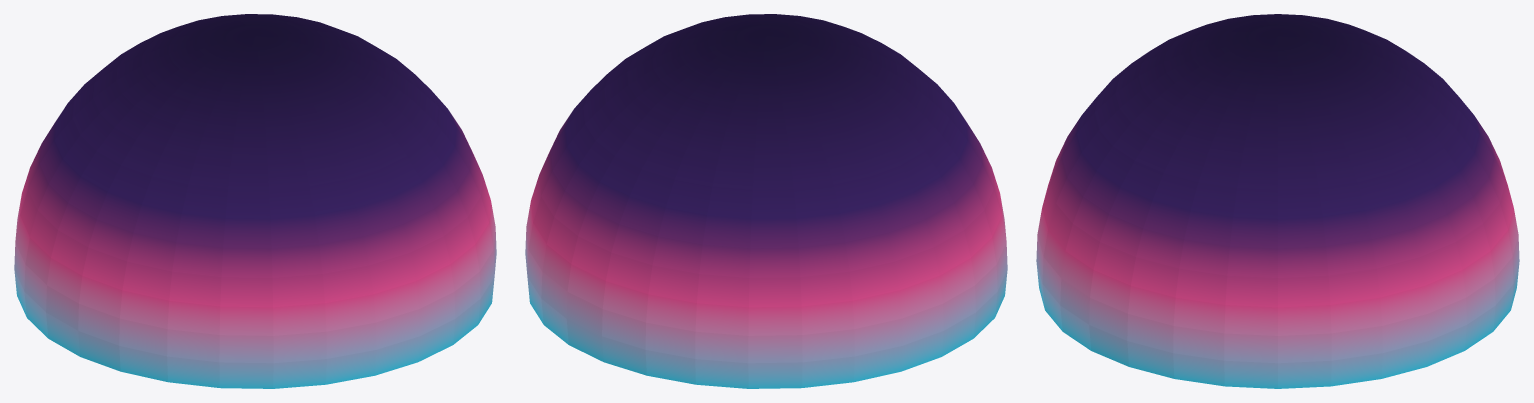
File: buckyworld.glb
The picture shows the model from 3 angles, left to right: view 1: azimuth 30°, elevation 25°; view 2: azimuth 150°, elevation 25°; view 3: azimuth 270°, elevation 25°; orthographic projection.
Visible parts, largest first — view 1: Sky; view 2: Sky; view 3: Sky.
Part boxes in pixels (left/top/right/bottom): Sky: left=14, top=14, right=496, bottom=388; Sky: left=525, top=14, right=1007, bottom=388; Sky: left=1036, top=14, right=1519, bottom=388.
Bounding box in the file's own units: 1240 × 713 × 1240.
